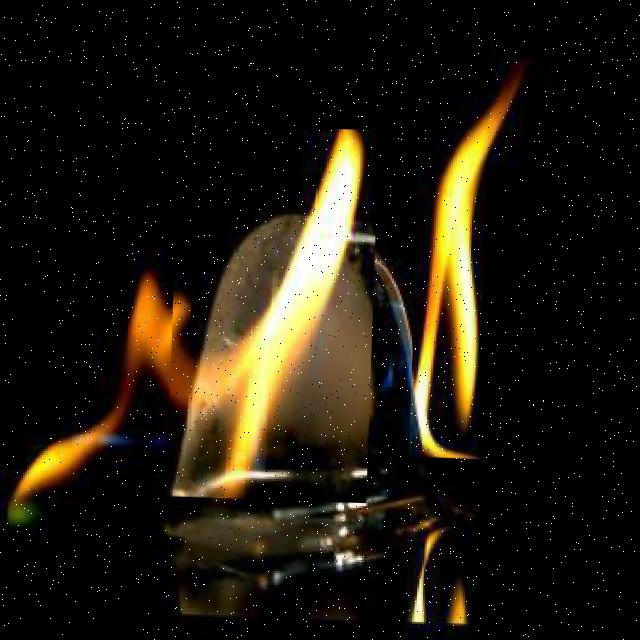fire: (165, 123, 378, 503), (408, 55, 532, 460)
